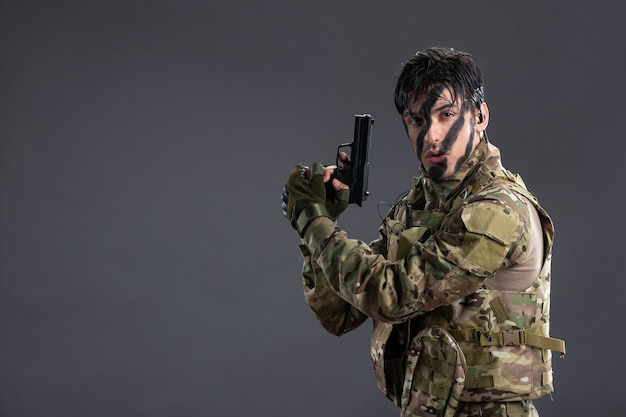gun: (330, 114, 373, 205)
